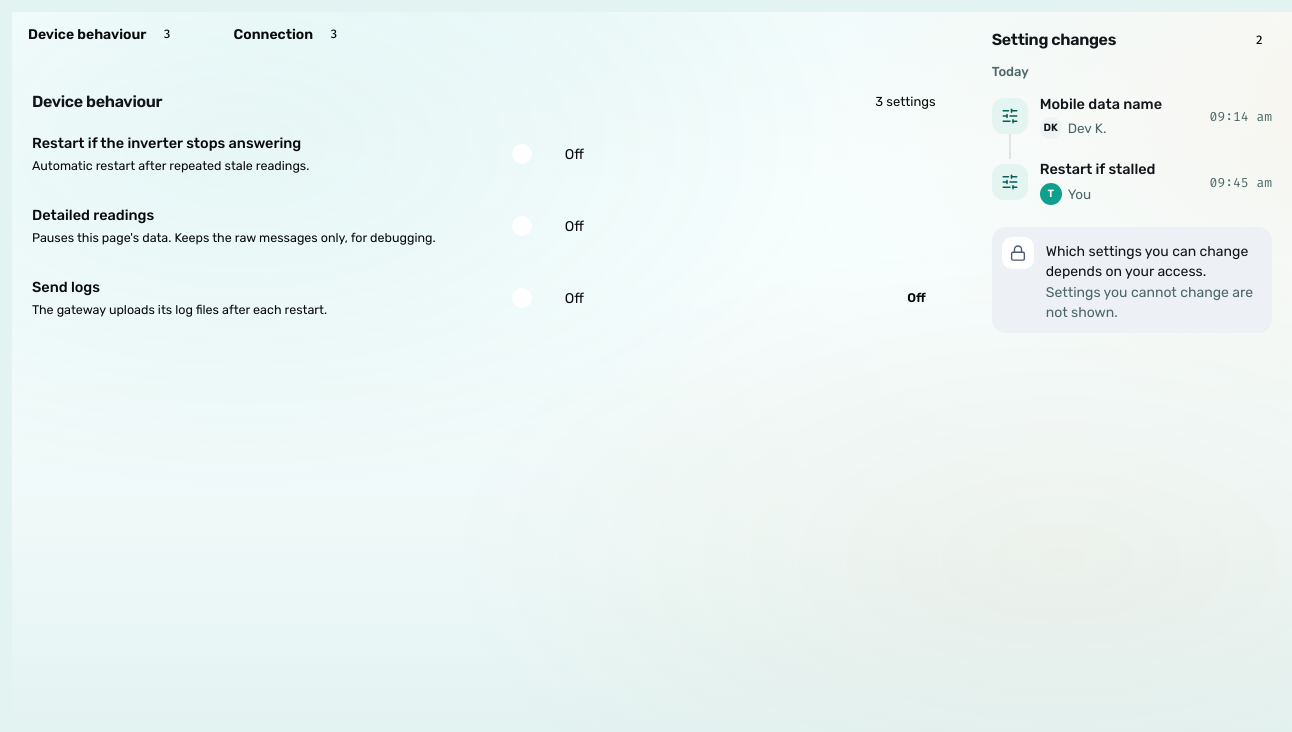
Test: H1 history lists only applied setting ops; staged ones show once, in the change bar
The image size is (1292, 732).
Click the switch named "Send logs". click: (532, 298)
box: [508,276,768,320]
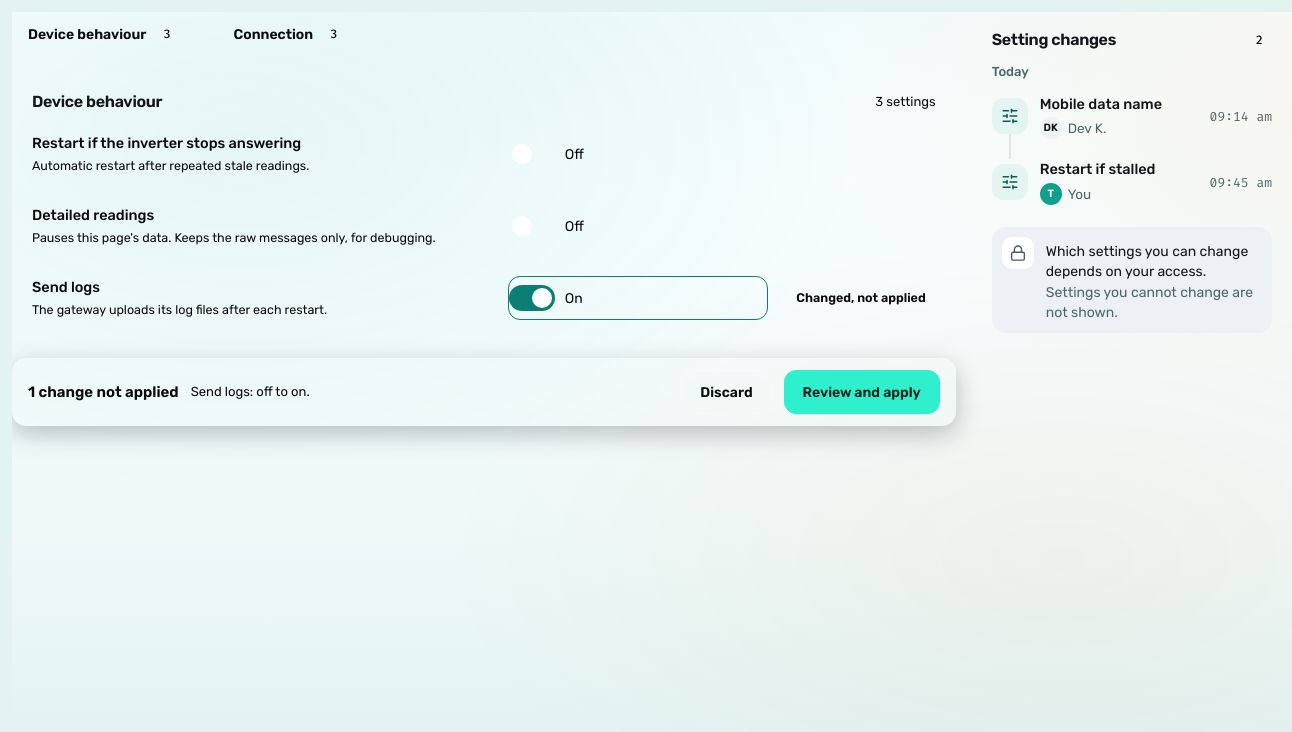
Expected: the text "Mobile data name" is shown, [1040,94,1162,112]
Expected: the text "1 change not applied" is shown, [28,381,179,403]
